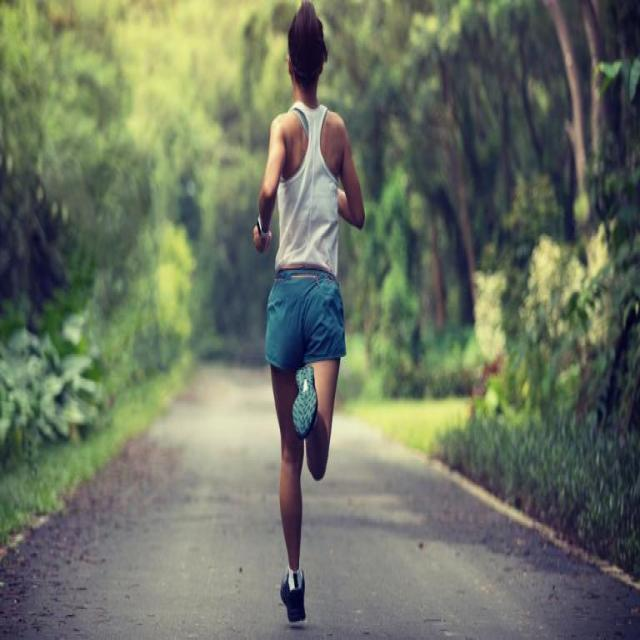Person: (252, 2, 365, 629)
